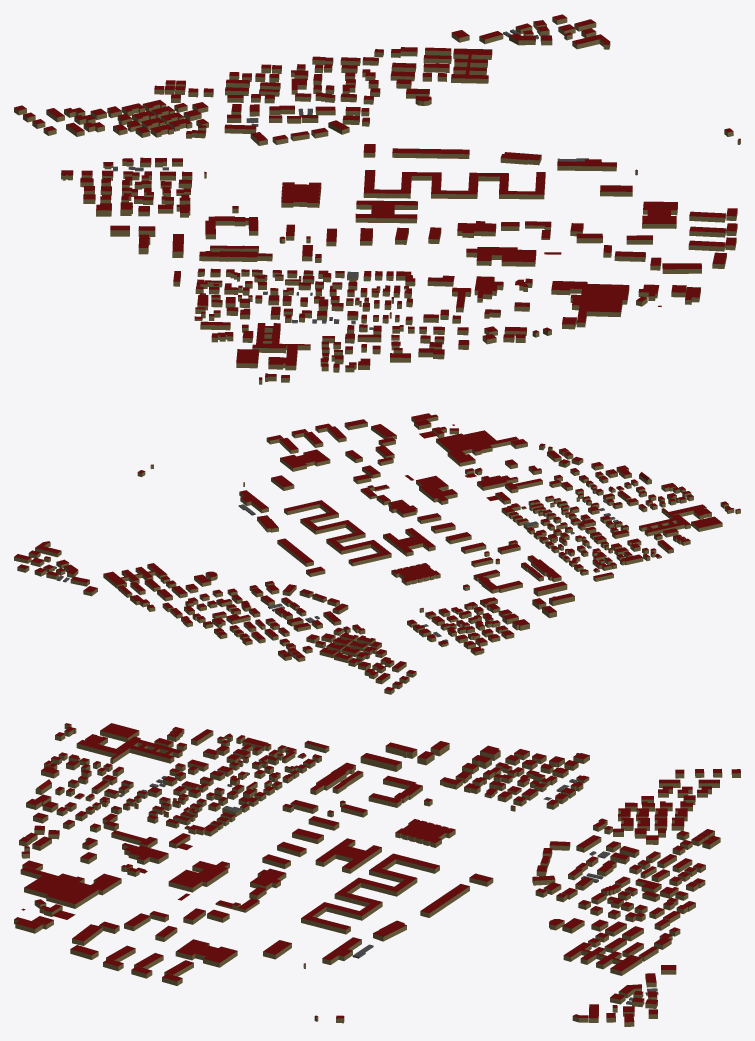
The model's file is Ingolstadt_Tile_8_7.obj.
3 views of the same model, one above another, from view 1: azimuth 30°, elevation 25°; view 2: azimuth 150°, elevation 25°; view 3: azimuth 270°, elevation 25° (orthographic). The views are drawn at different scales.
Parts seen in each view (by area): view 1: Building394, Building Auto-Scholz AHG Ingo GmbH & Co. KG, Building Banater Seniorenheim Josef Nischbach, Building393, Building380, Building116, Building395, Building391, Building328, Building379; view 2: Building394, Building Auto-Scholz AHG Ingo GmbH & Co. KG, Building Banater Seniorenheim Josef Nischbach, Building393, Building380, Building116, Building391, Building328; view 3: Building394, Building Auto-Scholz AHG Ingo GmbH & Co. KG, Building Banater Seniorenheim Josef Nischbach, Building380, Building393, Building116, Building391, Building328, Building0, Building395, Building385, Building379.
Boxes of the visible parts, bbox=[...] form: Building394: bbox=[363, 170, 545, 199]; Building Auto-Scholz AHG Ingo GmbH & Co. KG: bbox=[551, 281, 629, 327]; Building Banater Seniorenheim Josef Nischbach: bbox=[451, 48, 492, 83]; Building393: bbox=[355, 200, 417, 223]; Building380: bbox=[466, 247, 536, 266]; Building116: bbox=[281, 182, 321, 207]; Building395: bbox=[392, 148, 469, 158]; Building391: bbox=[205, 216, 258, 239]; Building328: bbox=[256, 343, 310, 370]; Building379: bbox=[557, 159, 616, 171]; Building394: bbox=[284, 500, 391, 566]; Building Auto-Scholz AHG Ingo GmbH & Co. KG: bbox=[436, 430, 518, 466]; Building Banater Seniorenheim Josef Nischbach: bbox=[103, 563, 167, 588]; Building393: bbox=[383, 528, 435, 556]; Building380: bbox=[416, 475, 457, 504]; Building116: bbox=[391, 563, 440, 585]; Building391: bbox=[473, 569, 522, 593]; Building328: bbox=[661, 504, 711, 528]; Building394: bbox=[301, 853, 439, 934]; Building Auto-Scholz AHG Ingo GmbH & Co. KG: bbox=[20, 866, 121, 908]; Building Banater Seniorenheim Josef Nischbach: bbox=[563, 942, 642, 975]; Building380: bbox=[168, 861, 229, 892]; Building393: bbox=[315, 838, 381, 873]; Building116: bbox=[395, 819, 455, 847]; Building391: bbox=[368, 775, 422, 807]; Building328: bbox=[76, 734, 141, 763]; Building0: bbox=[129, 740, 182, 763]; Building395: bbox=[420, 884, 469, 917]; Building385: bbox=[250, 868, 286, 890]; Building379: bbox=[322, 937, 361, 964].
Size of the model in its own units: 1021 by 12.5 by 1048.
